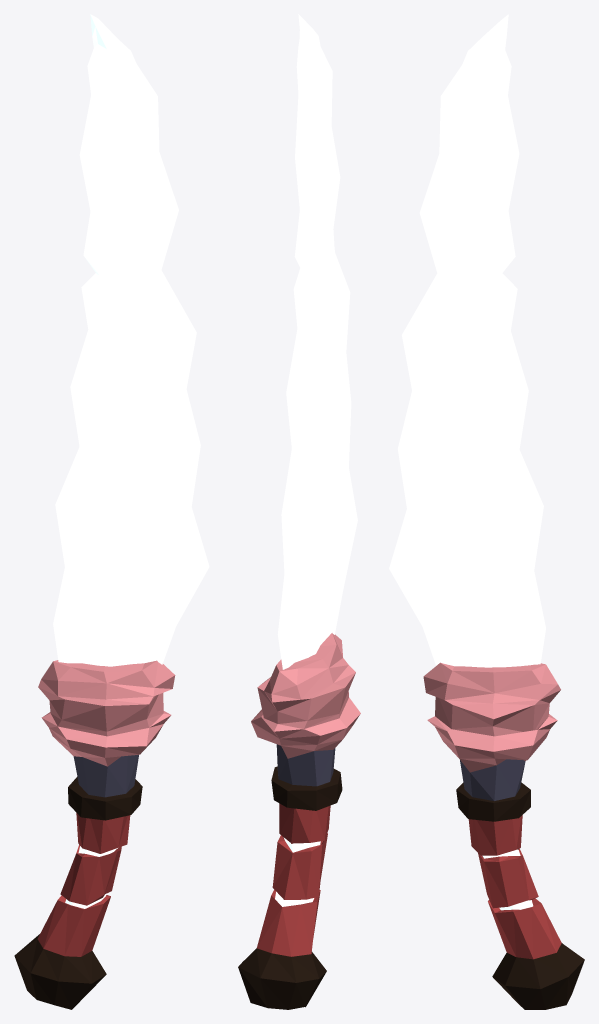
File: SFFA_Weapon_Knife_Runical_002.fbx
3 views of the same model, side by side, from view 1: azimuth 90°, elevation 25°; view 2: azimuth 150°, elevation 25°; view 3: azimuth 270°, elevation 25° (orthographic).
Visible parts, largest first — view 1: SFFA_Weapon_Knife_Runical_002; view 2: SFFA_Weapon_Knife_Runical_002; view 3: SFFA_Weapon_Knife_Runical_002.
Part boxes in pixels (x1,y1,x2,y2): SFFA_Weapon_Knife_Runical_002: (14, 14, 209, 1009); SFFA_Weapon_Knife_Runical_002: (238, 14, 360, 1009); SFFA_Weapon_Knife_Runical_002: (389, 14, 584, 1009).
Size of the model in its own units: 4.16 by 46.52 by 8.33.
